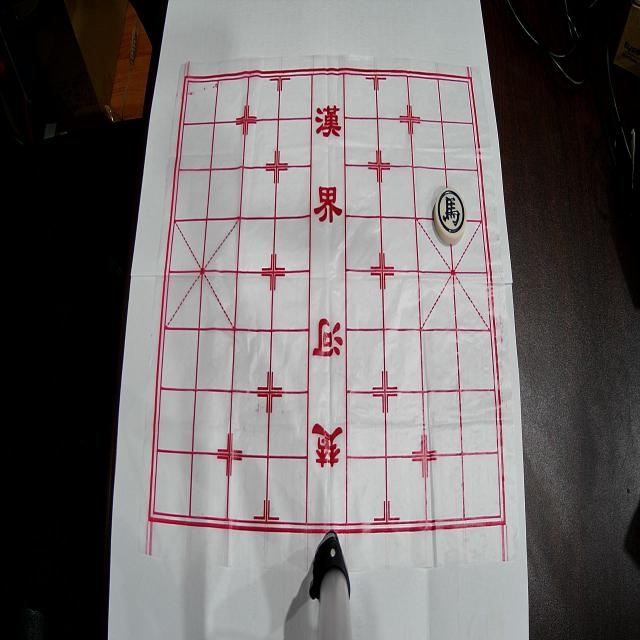black-horse: (434, 188, 466, 244)
